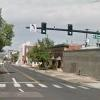Crosswalk: (2, 70, 99, 96)
